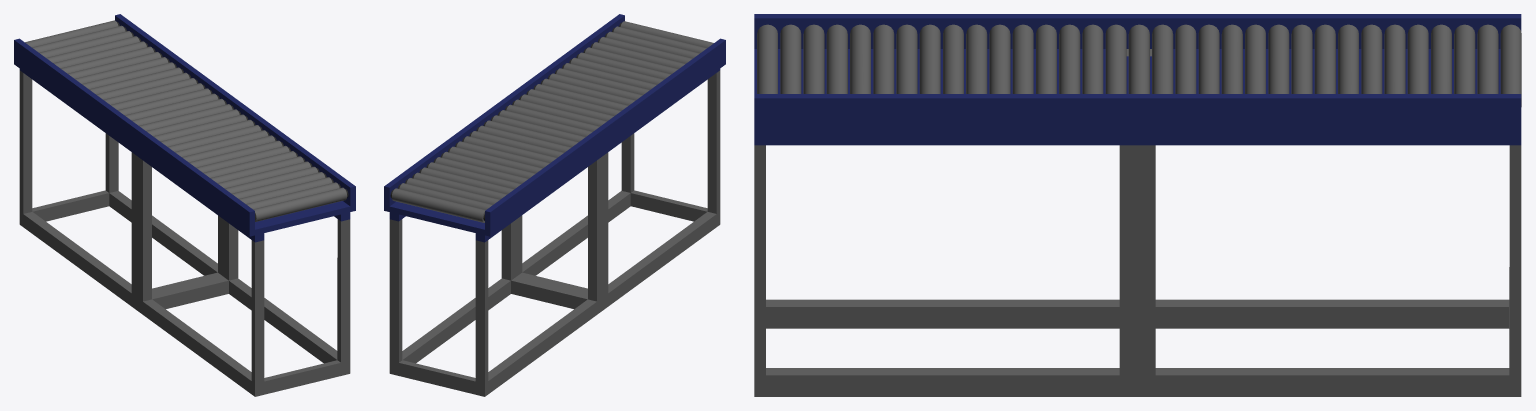
Rendered from assemblyRoller.fbx.
3 views of the same model, side by side, from view 1: azimuth 30°, elevation 25°; view 2: azimuth 150°, elevation 25°; view 3: azimuth 270°, elevation 25° (orthographic). The views are drawn at different scales.
Visible parts, largest first — view 1: Assembly Roller; view 2: Assembly Roller; view 3: Assembly Roller.
Part boxes in pixels (bbox=[...]): Assembly Roller: bbox=[14, 14, 355, 396]; Assembly Roller: bbox=[384, 14, 725, 396]; Assembly Roller: bbox=[754, 14, 1521, 396].
Size of the model in its own units: 52.1 by 200 by 87.15.
